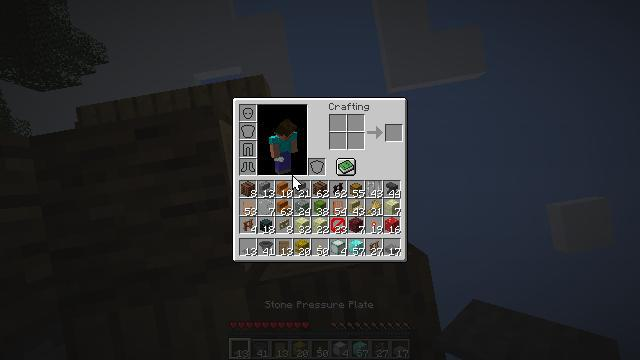cursor: (175, 292, 191, 302)
